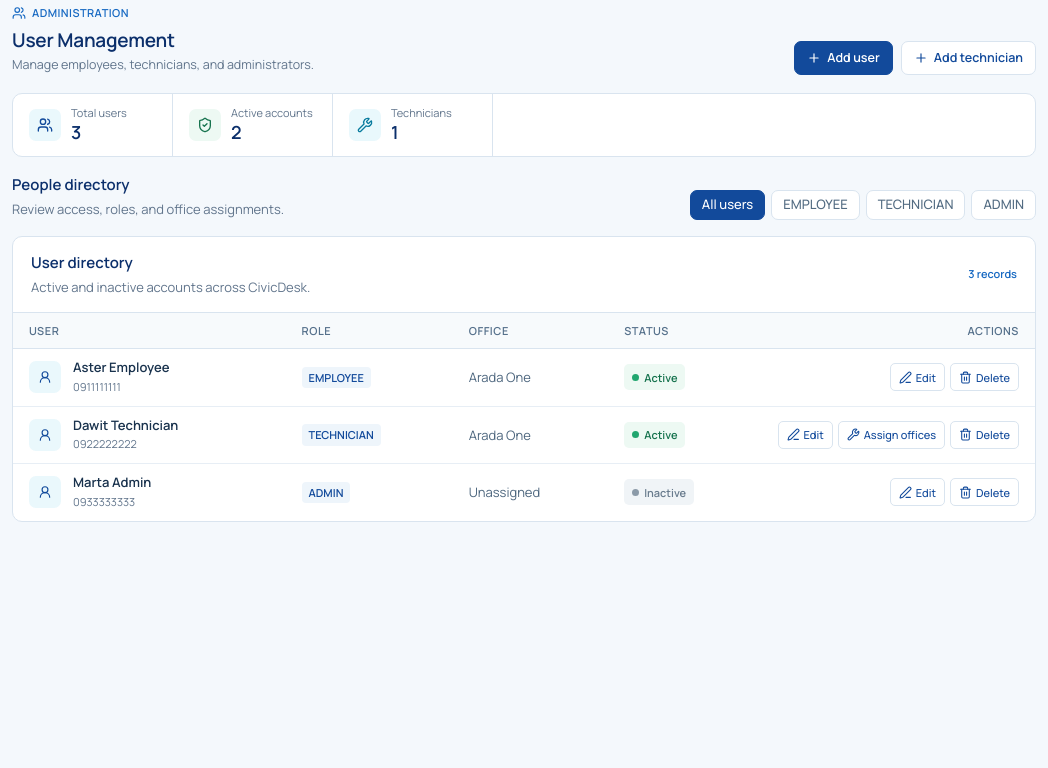
UserManagement › filters users by role
This screenshot has width=1048, height=768.
Check: the text "Aster Employee" is shown, box [73,359,170,376]
Click the button "TECHNICIAN".
click(916, 205)  # box [866,190,966,220]
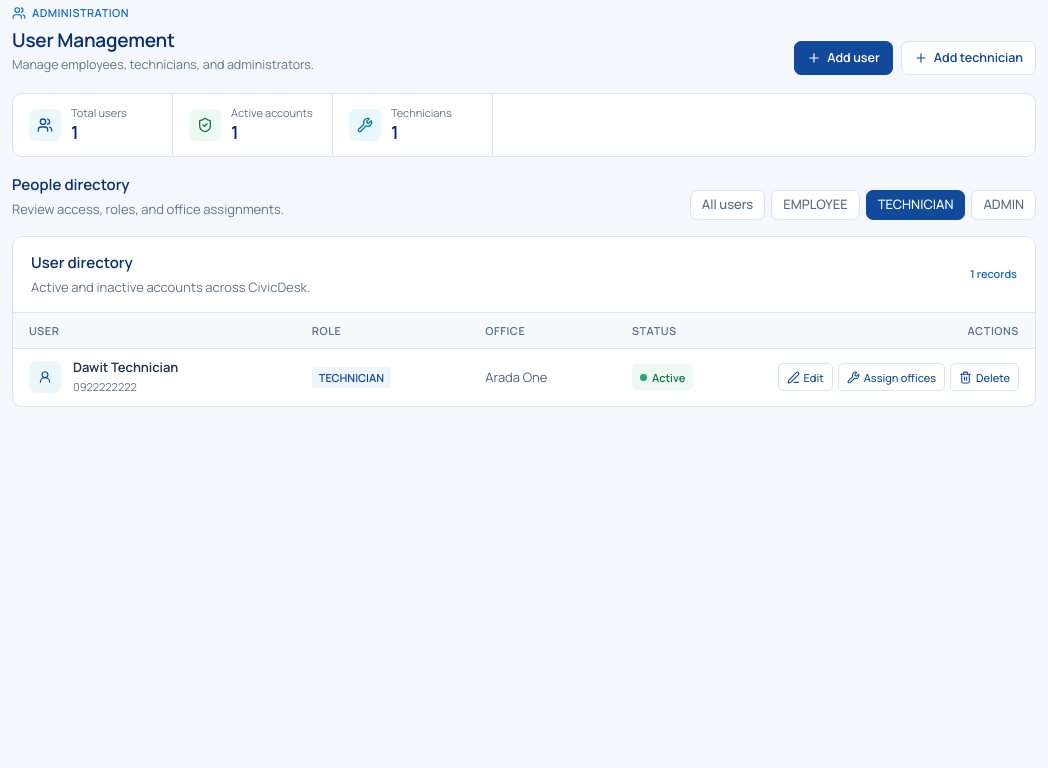
Check: the text "Dawit Technician" is shown, box [73,359,178,376]
Check: the number of rows with test id "user-row" is 1, box [13,349,1035,406]
